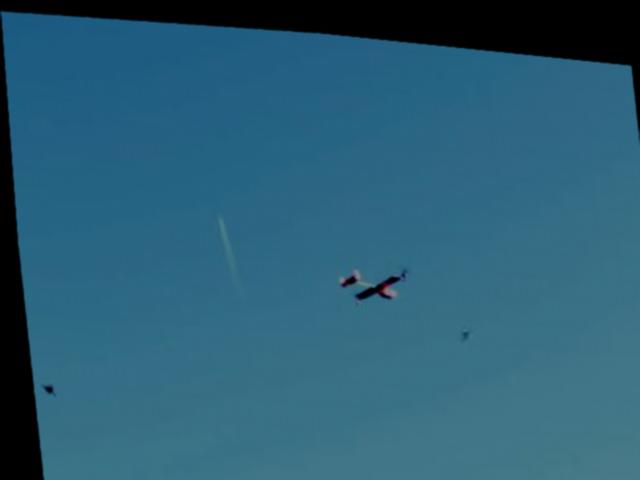uav: (321, 249, 418, 308)
